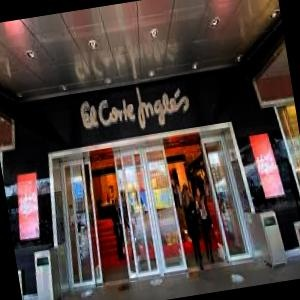corte_ingles: (159, 39, 236, 117)
